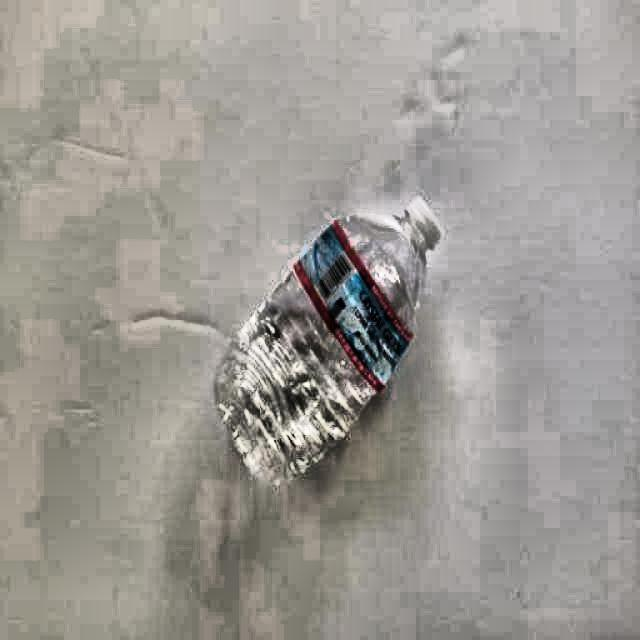Anorganik: (201, 118, 477, 510)
